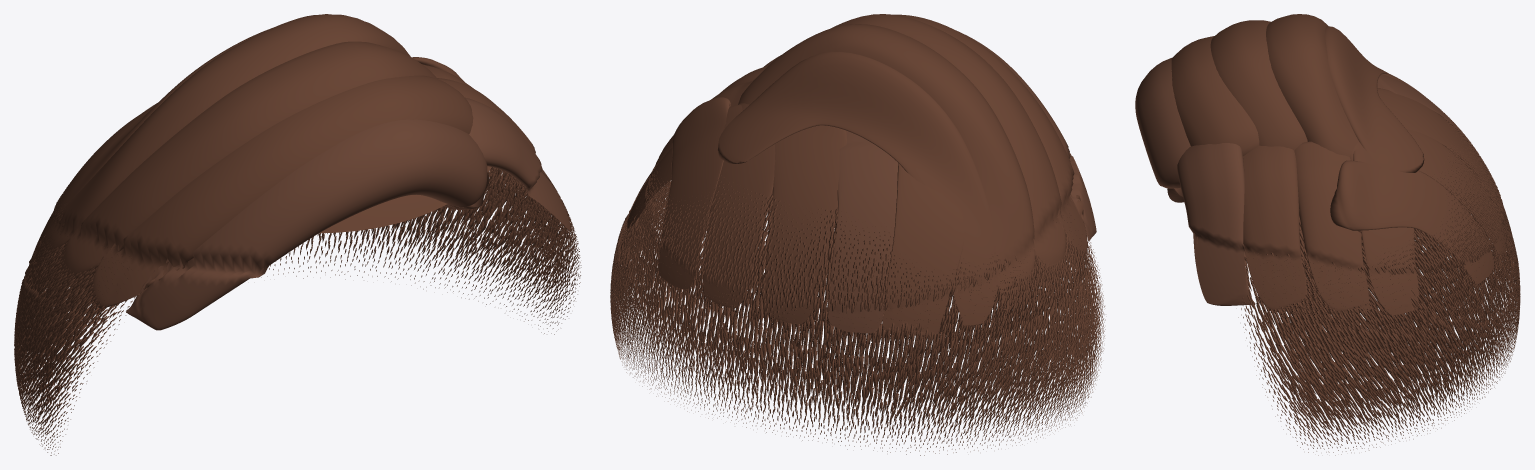
File: Masculine-taper-headband254-hair.glb
3 views of the same model, side by side, from view 1: azimuth 30°, elevation 25°; view 2: azimuth 150°, elevation 25°; view 3: azimuth 270°, elevation 25° (orthographic). The views are drawn at different scales.
Parts seen in each view (by area): view 1: 226 hair / Hair252 / sculpted locks, 226 hair / Hair252 / gentle tonal variation, 226 hair / Hair254 / rooted short groom; view 2: 226 hair / Hair252 / sculpted locks, 226 hair / Hair254 / rooted short groom, 226 hair / Hair252 / gentle tonal variation; view 3: 226 hair / Hair252 / sculpted locks, 226 hair / Hair254 / rooted short groom, 226 hair / Hair252 / gentle tonal variation.
Boxes of the visible parts, bbox=[...] form: 226 hair / Hair252 / sculpted locks: bbox=[34, 14, 555, 308]; 226 hair / Hair252 / gentle tonal variation: bbox=[126, 97, 570, 330]; 226 hair / Hair254 / rooted short groom: bbox=[14, 166, 581, 455]; 226 hair / Hair252 / sculpted locks: bbox=[627, 14, 1087, 335]; 226 hair / Hair254 / rooted short groom: bbox=[610, 162, 1105, 455]; 226 hair / Hair252 / gentle tonal variation: bbox=[764, 32, 1096, 333]; 226 hair / Hair252 / sculpted locks: bbox=[1171, 14, 1507, 315]; 226 hair / Hair254 / rooted short groom: bbox=[1238, 111, 1520, 455]; 226 hair / Hair252 / gentle tonal variation: bbox=[1135, 58, 1472, 305].
Size of the model in its own units: 0.9716 by 0.6881 by 0.7405.
